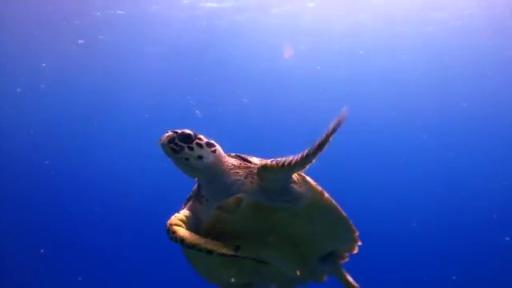Fish: (160, 110, 360, 287), (183, 244, 308, 287)
